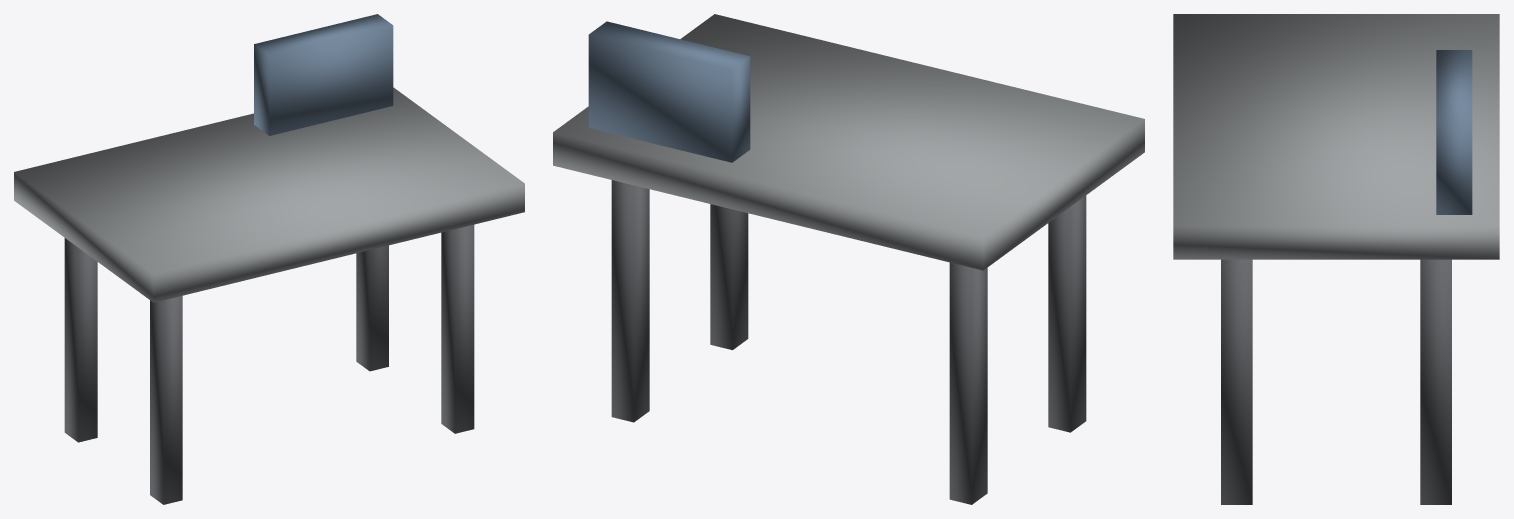
Rendered from welding_table__deep.glb.
The picture shows the model from 3 angles, left to right: view 1: azimuth 30°, elevation 25°; view 2: azimuth 150°, elevation 25°; view 3: azimuth 270°, elevation 25°; orthographic projection. The views are drawn at different scales.
Parts seen in each view (by area): view 1: world; view 2: world; view 3: world.
Boxes of the visible parts, x1,y1,x2,y2 form: world: (14, 14, 524, 504); world: (553, 14, 1144, 504); world: (1173, 14, 1499, 504).
Size of the model in its own units: 1.35 by 1.16 by 0.8784.
